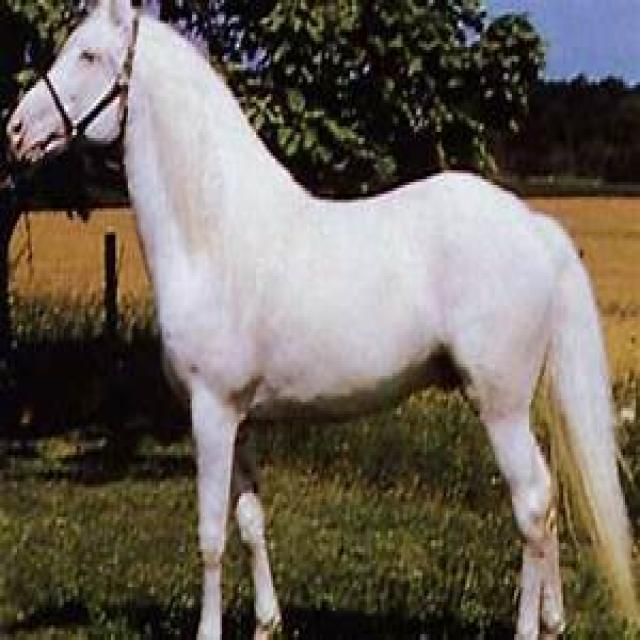horse: (6, 0, 640, 640)
